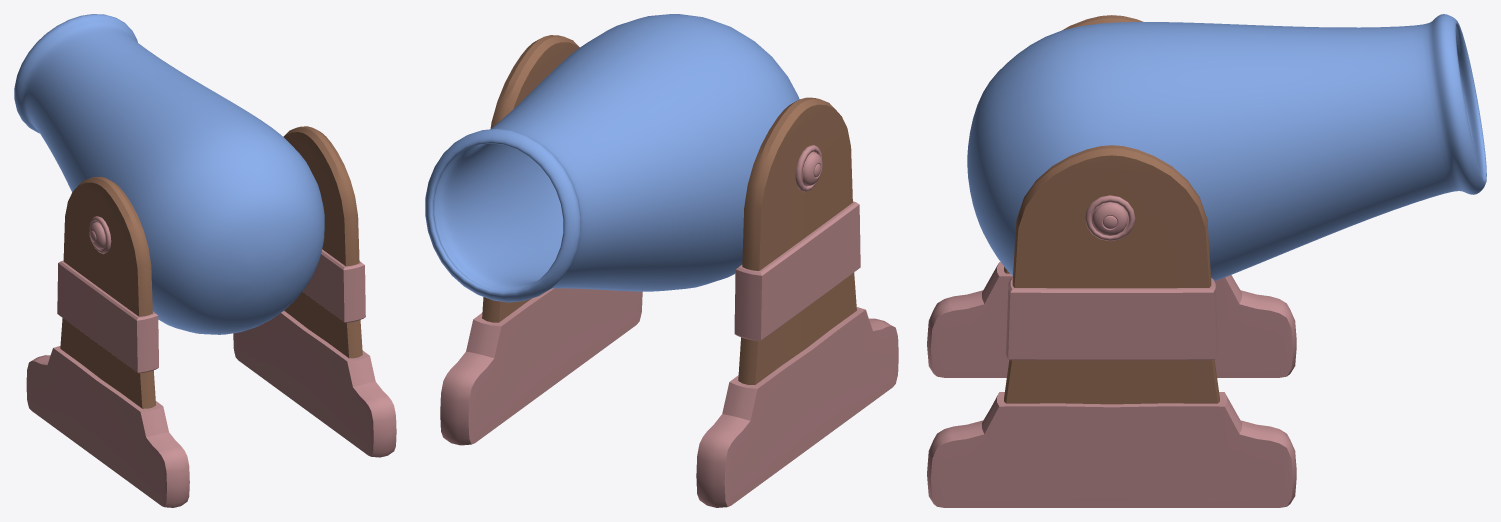
Rendered from armata.fbx.
The picture shows the model from 3 angles, left to right: view 1: azimuth 30°, elevation 25°; view 2: azimuth 150°, elevation 25°; view 3: azimuth 270°, elevation 25°; orthographic projection. The views are drawn at different scales.
Parts seen in each view (by area): view 1: armata, podstawka, sruby; view 2: armata, podstawka, sruby; view 3: podstawka, armata, sruby.
Part boxes in pixels (x1=…): armata: x1=14, y1=14, x2=324, y2=334; podstawka: x1=26, y1=126, x2=396, y2=507; sruby: x1=89, y1=216, x2=111, y2=254; armata: x1=425, y1=14, x2=799, y2=302; podstawka: x1=440, y1=35, x2=898, y2=507; sruby: x1=795, y1=145, x2=822, y2=192; podstawka: x1=927, y1=15, x2=1296, y2=507; armata: x1=967, y1=14, x2=1486, y2=281; sruby: x1=1085, y1=195, x2=1135, y2=241.
Bounding box in the file's own units: 772 × 990 × 1208.
